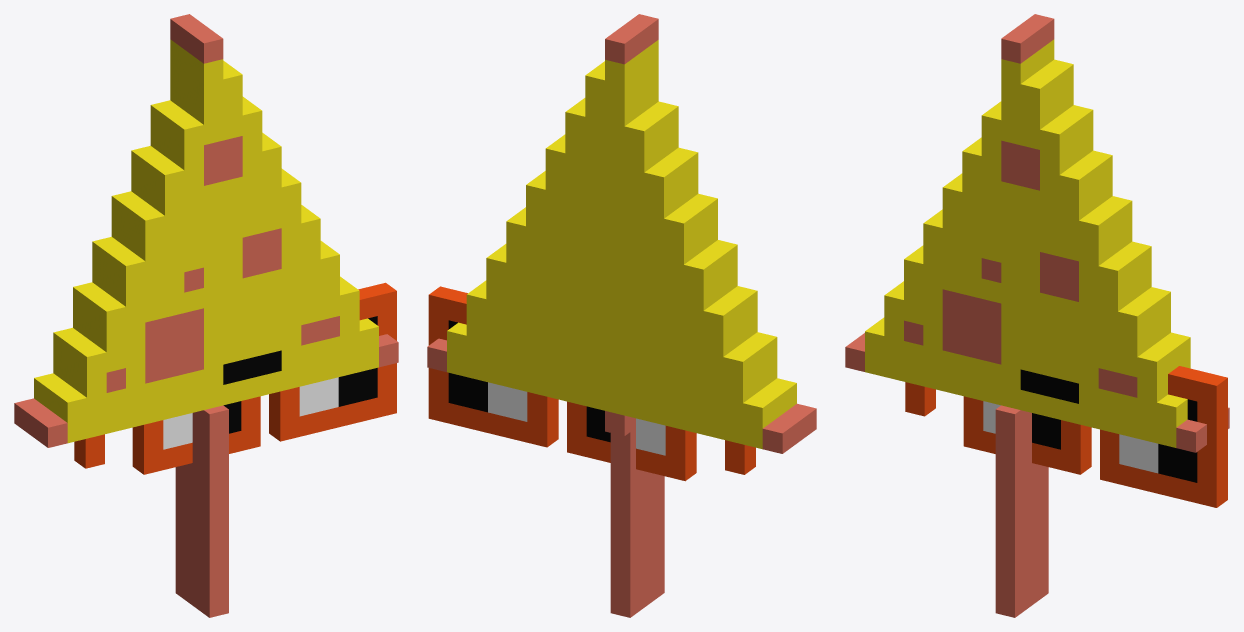
The model's file is pizza.glb.
3 renders of one model, left to right at view 1: azimuth 30°, elevation 25°; view 2: azimuth 150°, elevation 25°; view 3: azimuth 330°, elevation 25°, orthographic.
Parts seen in each view (by area): view 1: base, top, glasses, layer-2; view 2: base, top, glasses, layer-2, b1; view 3: base, top, glasses, layer-2.
Part boxes in pixels (<box>): base: <box>14,60,398,447</box>; top: <box>170,14,228,617</box>; glasses: <box>74,282,396,474</box>; layer-2: <box>163,316,377,449</box>; base: <box>427,60,816,453</box>; top: <box>605,14,664,617</box>; glasses: <box>428,286,755,481</box>; layer-2: <box>448,320,665,455</box>; b1: <box>605,411,635,435</box>; base: <box>845,59,1229,452</box>; top: <box>995,14,1054,617</box>; glasses: <box>905,366,1227,507</box>; layer-2: <box>983,399,1197,482</box>.
Bounding box in the file's own units: 18.5 × 28 × 3.5.
Materials: 8 (8 with a texture image).
